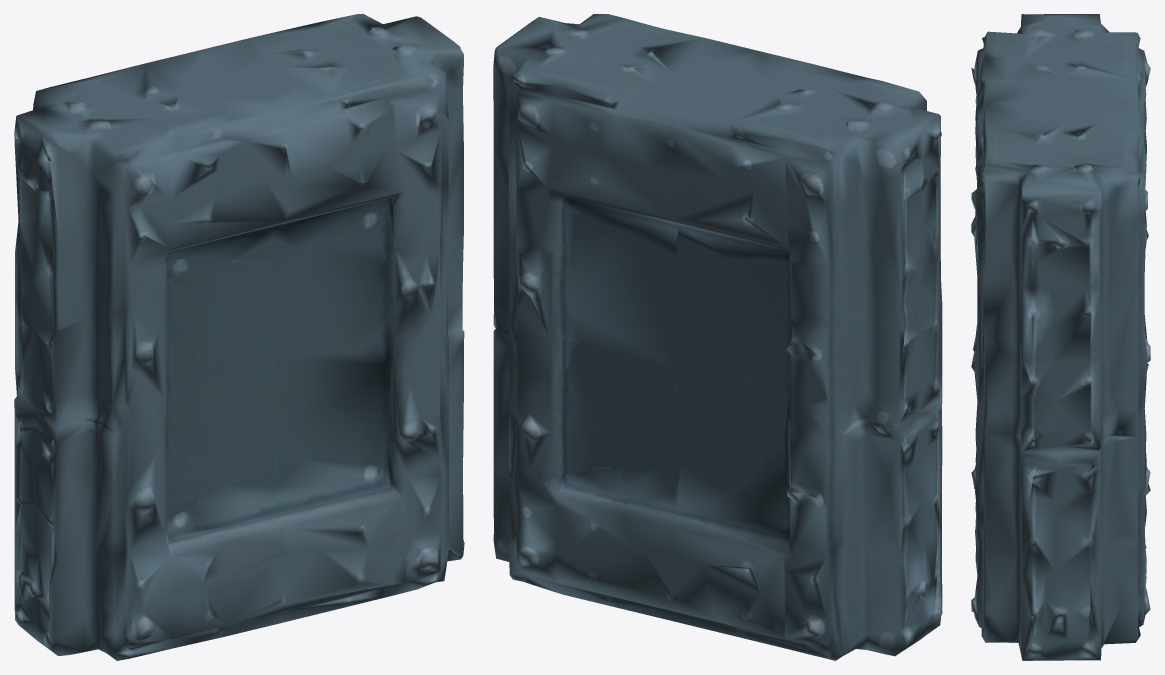
File: wall.glb
3 views of the same model, side by side, from view 1: azimuth 30°, elevation 25°; view 2: azimuth 150°, elevation 25°; view 3: azimuth 270°, elevation 25° (orthographic). The views are drawn at different scales.
Bounding box in the file's own units: 1.58 × 1.9 × 0.6491.
Materials: 1 (1 with a texture image).
